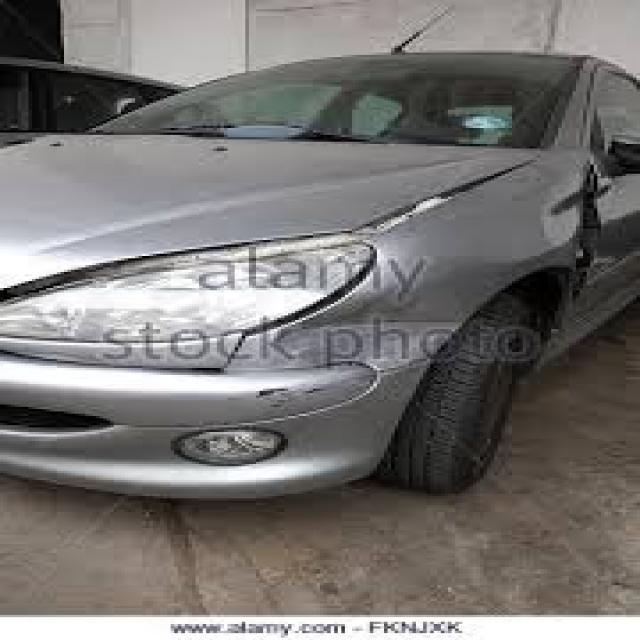minor: (0, 148, 536, 364)
